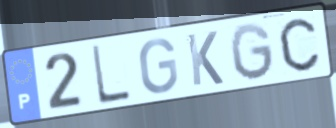2: (42, 51, 85, 114)
C: (277, 16, 322, 73)
G: (228, 21, 277, 83), (138, 36, 181, 96)
K: (184, 29, 226, 89)
L: (89, 43, 133, 108)
